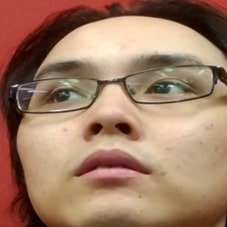awake: (33, 52, 211, 189)
